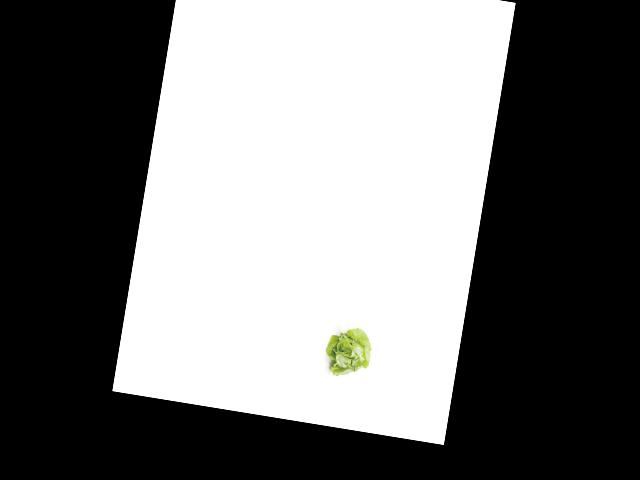lettuce: (319, 322, 378, 382)
